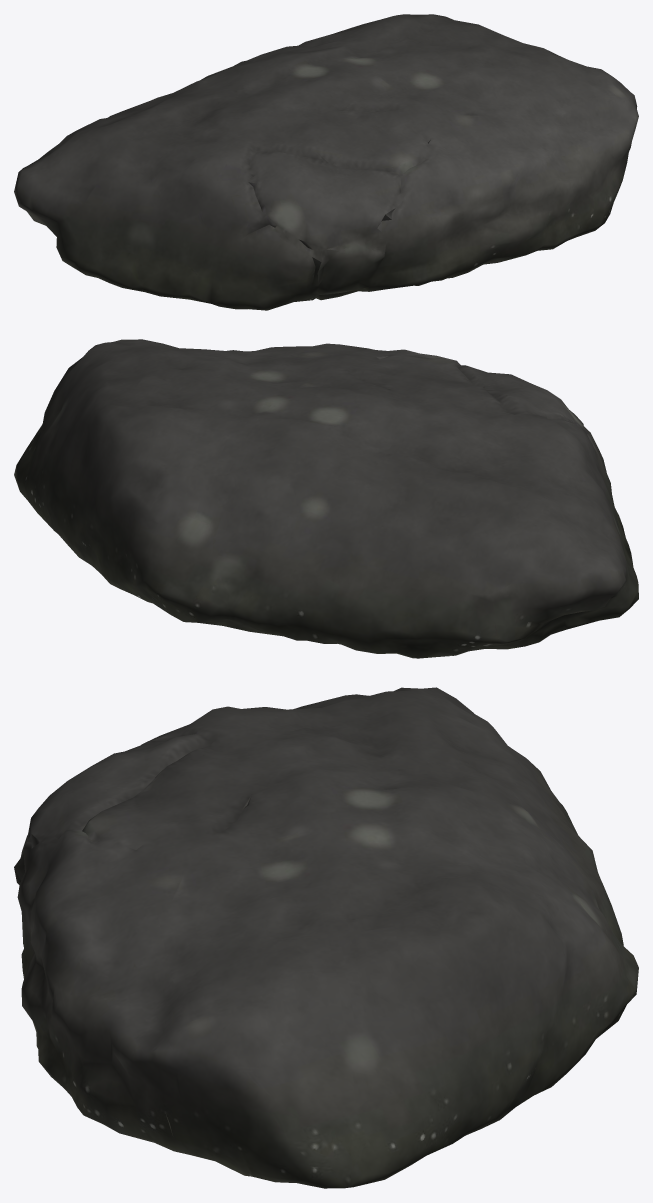
The model's file is rock_slab.glb.
The picture shows the model from 3 angles, top to bottom: view 1: azimuth 30°, elevation 25°; view 2: azimuth 150°, elevation 25°; view 3: azimuth 270°, elevation 25°; orthographic projection. The views are drawn at different scales.
Parts seen in each view (by area): view 1: rock_slab; view 2: rock_slab; view 3: rock_slab.
Part boxes in pixels (x1=…): rock_slab: x1=14, y1=14, x2=638, y2=310; rock_slab: x1=14, y1=339, x2=638, y2=658; rock_slab: x1=14, y1=687, x2=638, y2=1188.
Size of the model in its own units: 1.83 by 0.4615 by 1.22.
1 material, 1 textured.
